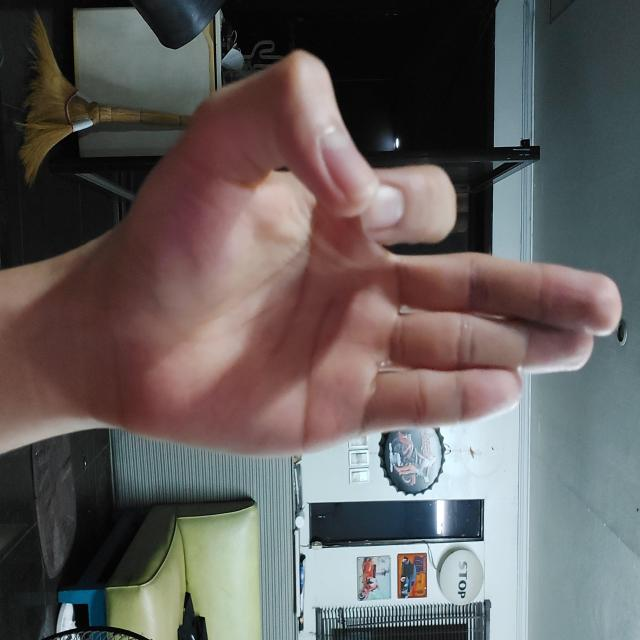F: (48, 17, 459, 534)
